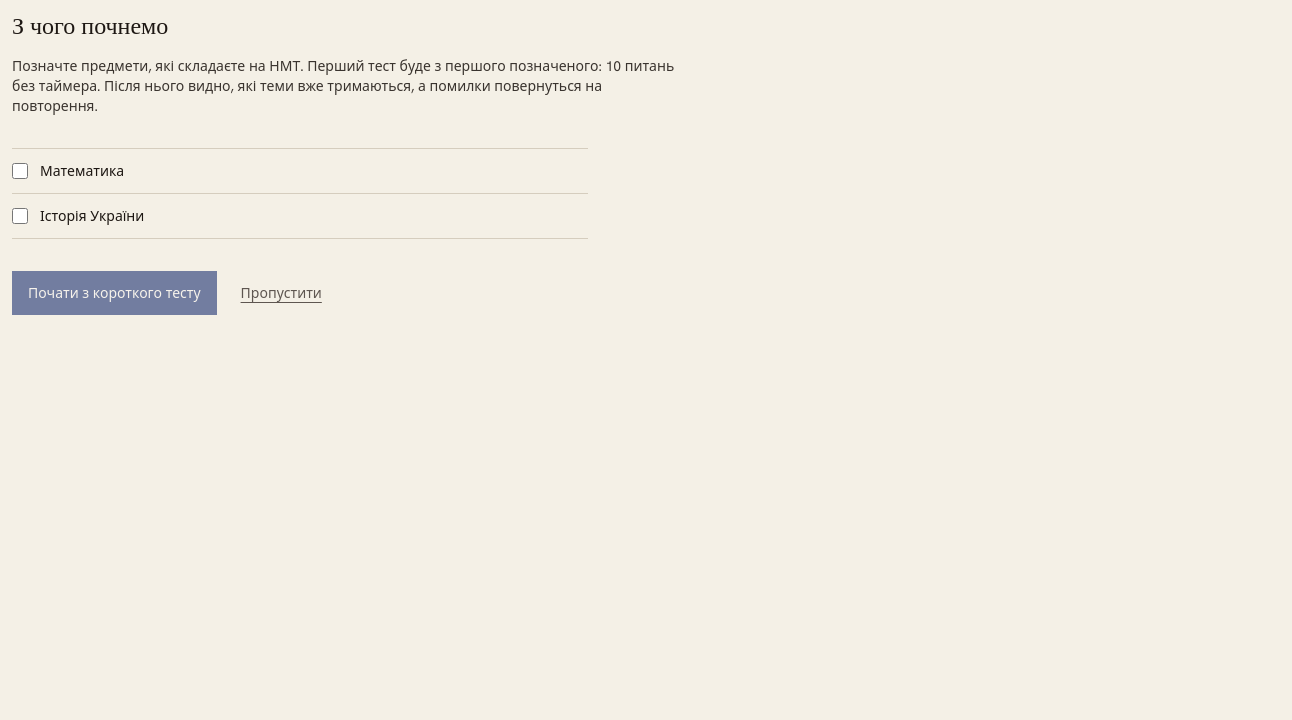
Test case: TodayList — the first screen › stays on the screen with the ticks kept when the test cannot start
Click the checkbox labelled "Математика". click: click(20, 171)
box: x1=12 y1=163 x2=28 y2=179
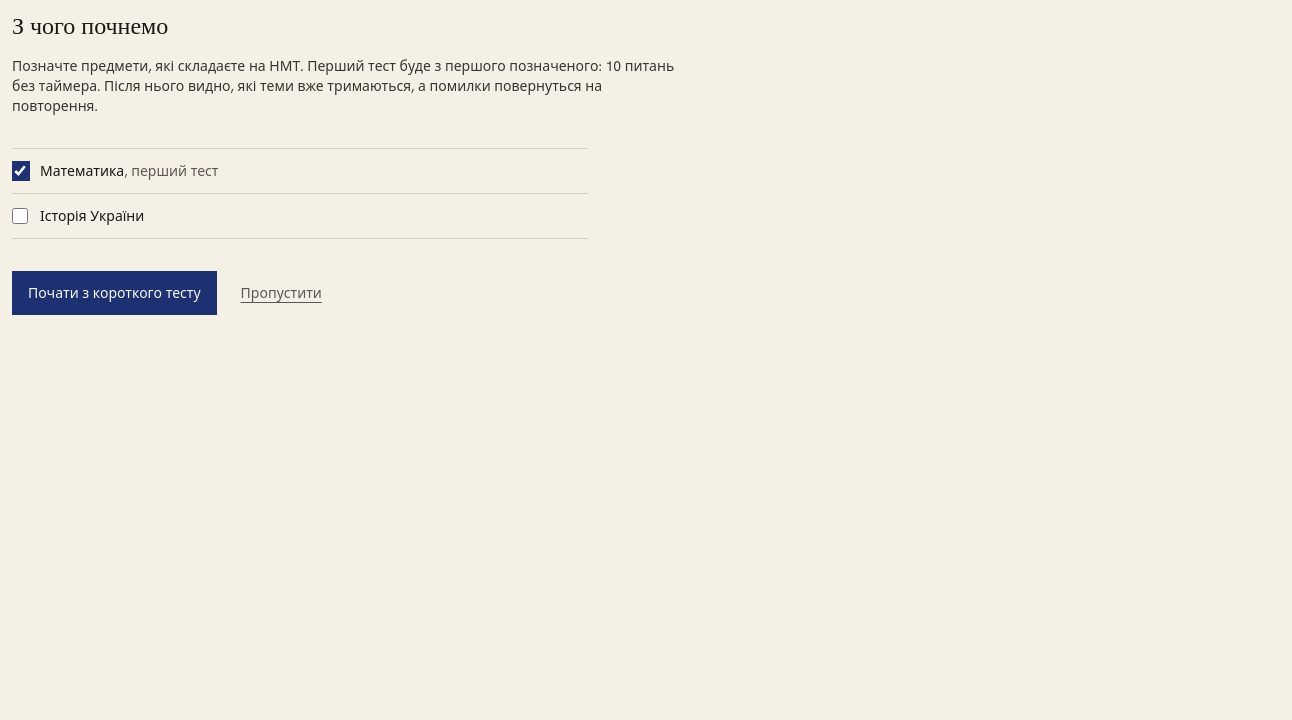
Click the button "Почати з короткого тесту". click: click(114, 293)
box: x1=12 y1=271 x2=217 y2=315
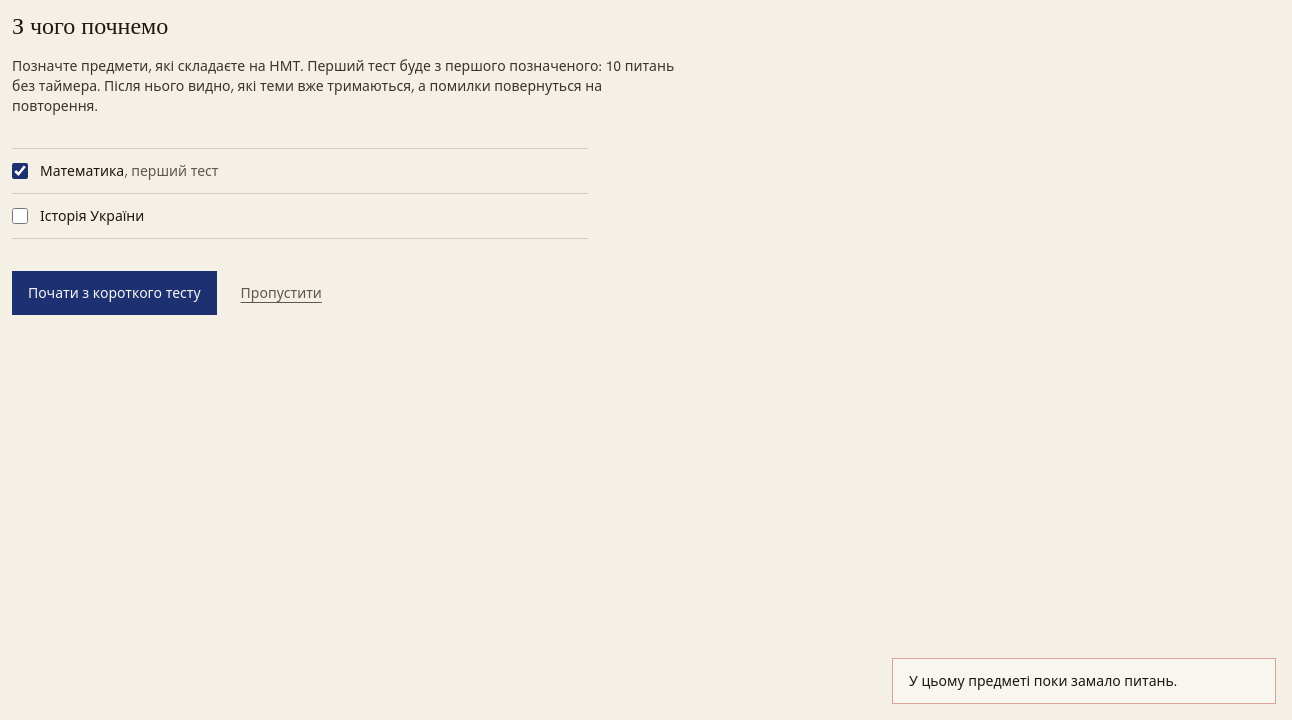
Result: the checkbox labelled "Математика, перший тест" is checked at x1=12 y1=163 x2=28 y2=179
Result: the text "У цьому предметі поки замало питань." is shown at x1=892 y1=658 x2=1276 y2=704
